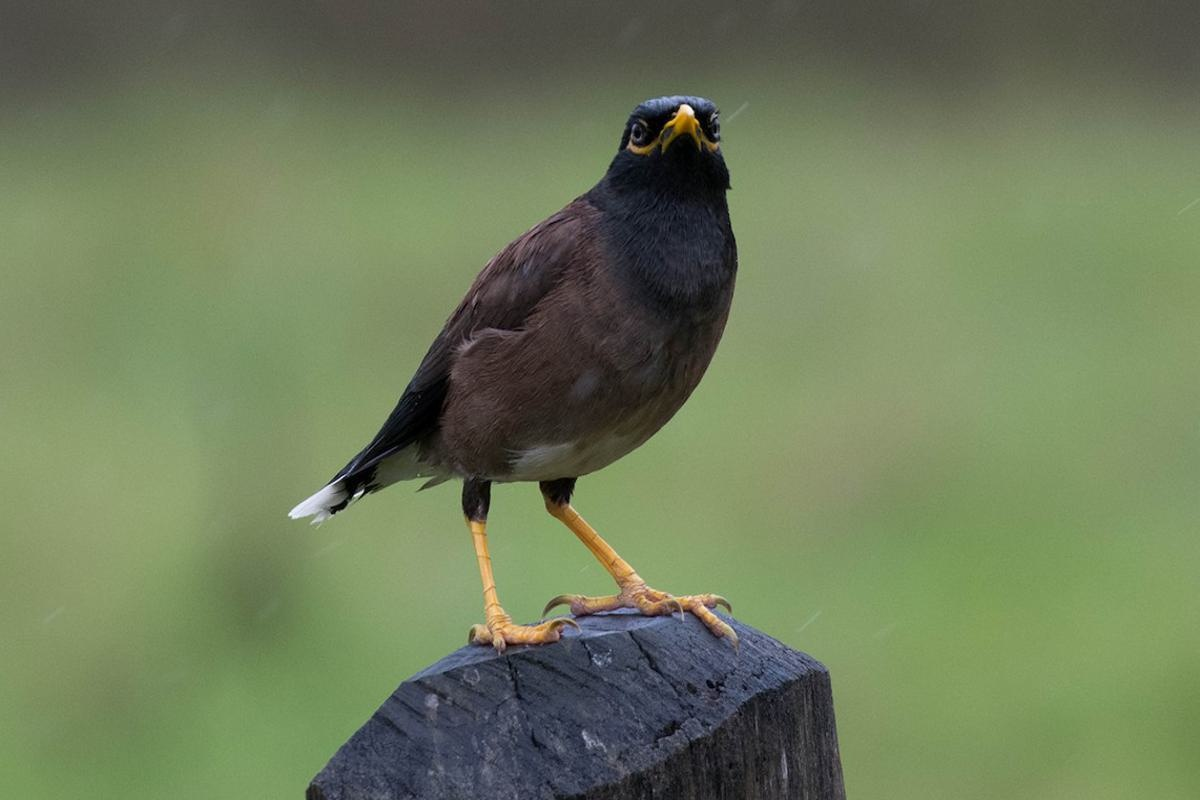myna: (365, 85, 761, 590)
